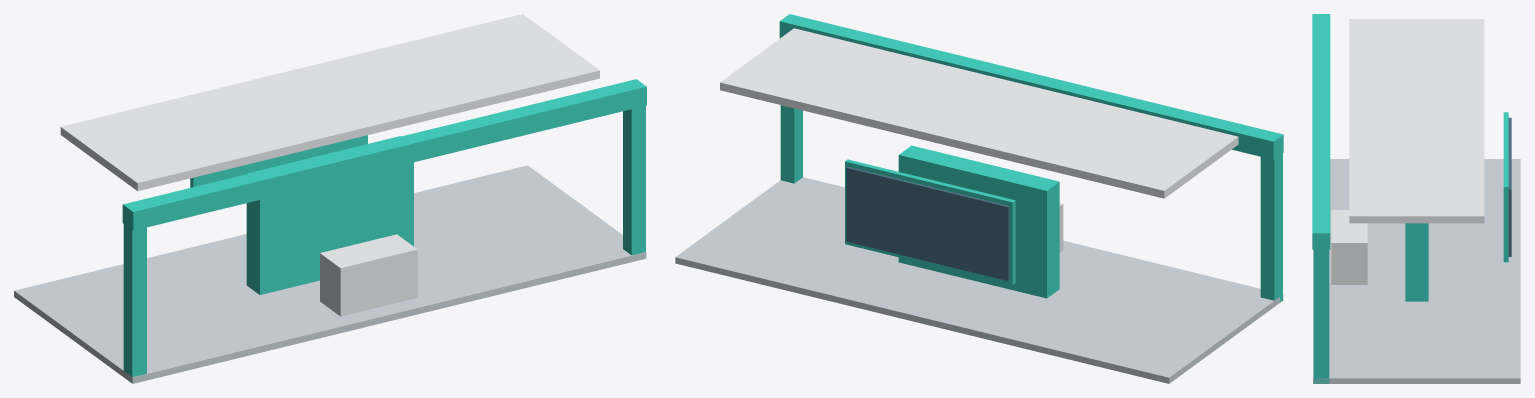
3 views of the same model, side by side, from view 1: azimuth 30°, elevation 25°; view 2: azimuth 150°, elevation 25°; view 3: azimuth 270°, elevation 25° (orthographic). The views are drawn at different scales.
Visible parts, largest first — view 1: Exhibition Booth Concept; view 2: Exhibition Booth Concept; view 3: Exhibition Booth Concept.
Part boxes in pixels (left/top/right/bottom): Exhibition Booth Concept: left=14, top=14, right=646, bottom=383; Exhibition Booth Concept: left=675, top=14, right=1283, bottom=383; Exhibition Booth Concept: left=1312, top=14, right=1520, bottom=383.
Bounding box in the file's own units: 10 × 3.34 × 4.02.
